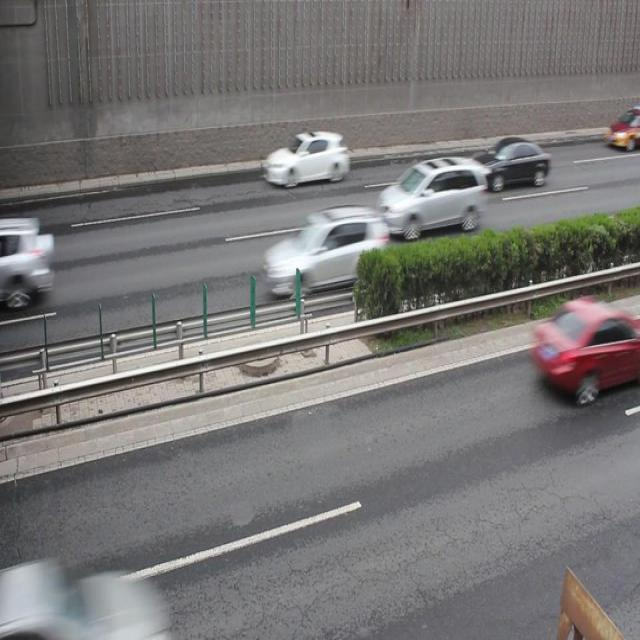car: (261, 204, 387, 301), (531, 294, 631, 404), (0, 212, 54, 308), (262, 128, 350, 186), (472, 135, 550, 191)
truck: (375, 154, 485, 236)
